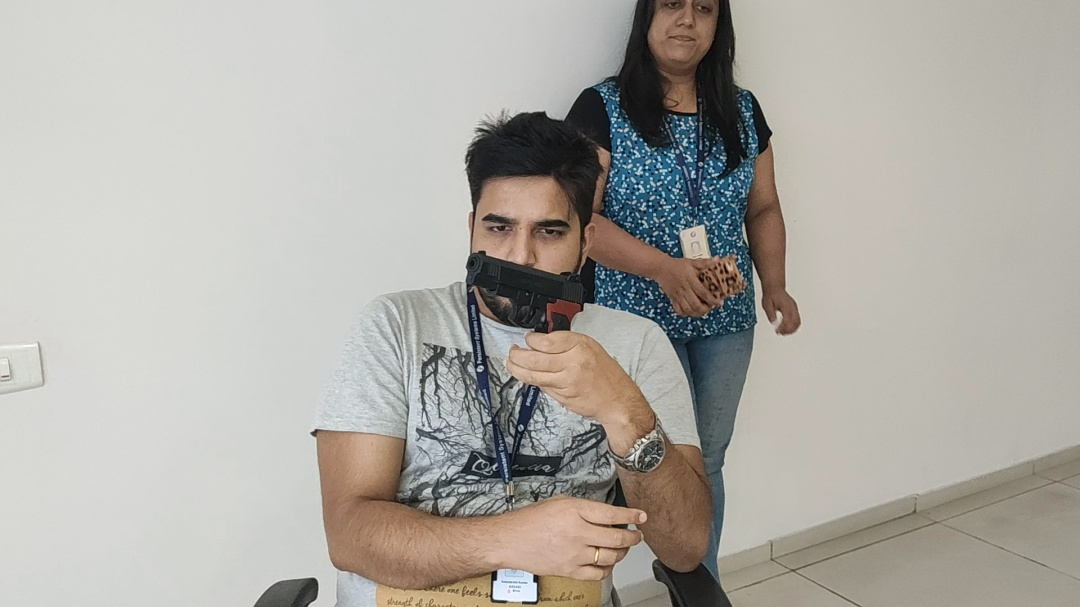gun: (465, 248, 584, 331)
